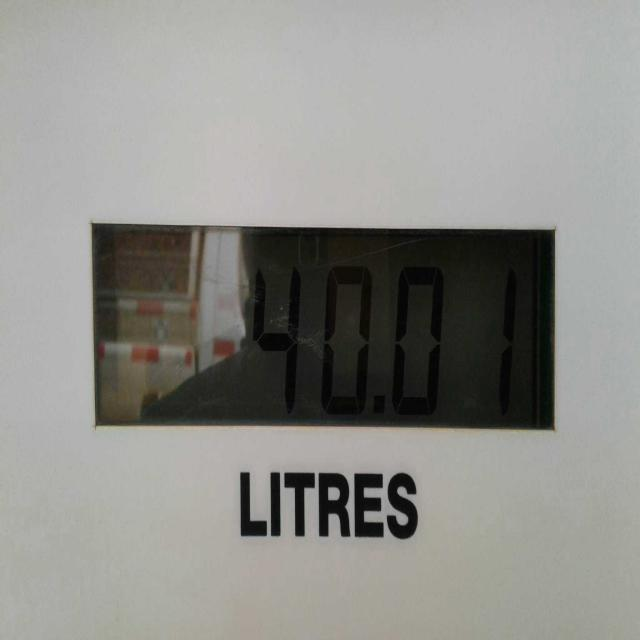.: (368, 379, 392, 429)
0: (314, 250, 378, 422), (386, 252, 448, 421)
1: (481, 250, 527, 429)
4: (246, 260, 314, 416)
